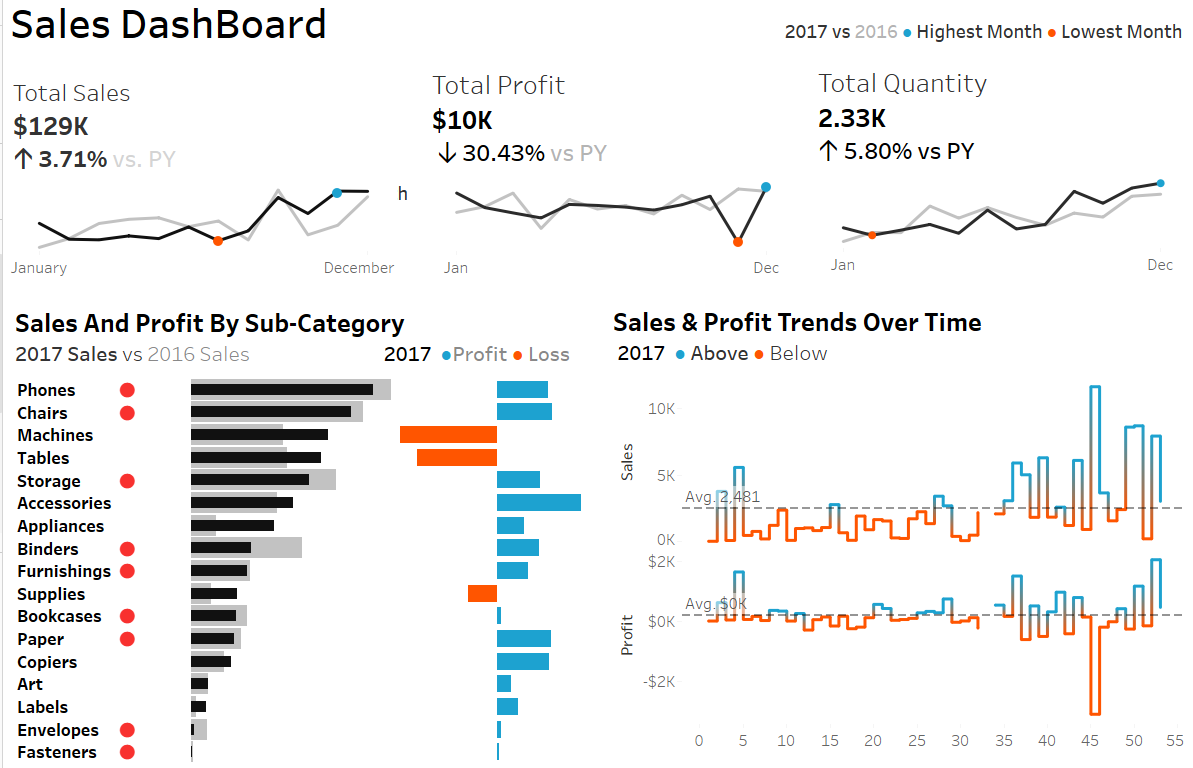

Layout of this report page (visuals, bound fields, positions):
{"tool":"tableau","page":{"name":"Dashboard 2","canvas":[1200,800],"ordinal":0},"visuals":[{"type":"text","box":[0,0,1200,400]},{"type":"text","box":[4,3,1189,52]},{"type":"worksheet","title":"Quantity KPI","mark":"Automatic","rows":["Min/Max Sales (copy)_424182855802077206"],"cols":["Order Date"],"box":[811,68,375,216]},{"type":"worksheet","title":"Profit KPI","mark":"Automatic","rows":["Min/Max Sales (copy)_424182855794262029"],"cols":["Order Date"],"box":[425,70,366,217]},{"type":"worksheet","title":"KPI Sales","mark":"Automatic","rows":["Calculation_424182855782264836"],"cols":["Order Date"],"box":[6,79,388,208]},{"type":"worksheet","title":"Sheet 14","mark":"Automatic","rows":["Calculation_424182855769059328","Calculation_424182855793283082"],"cols":["Order Date"],"box":[606,307,577,453]},{"type":"worksheet","title":"Sheet 11","mark":"Bar","rows":["Sub-Category","Calculation_424182855822110746"],"cols":["CY Sales (copy)_424182855771340801","Calculation_424182855769059328","Calculation_424182855793283082"],"box":[8,308,579,462]},{"type":"text","box":[0,400,1200,400]}]}

Visuals, with their boxes on the page's 1200x800 design canvas (x1, y1, x2, y2). These are canvas units, not pixel positions in the 1193x768 screenshot, which may show the page scaled, cropped or inside an application window:
text: {"left": 0, "top": 0, "right": 1200, "bottom": 400}
text: {"left": 4, "top": 3, "right": 1193, "bottom": 55}
"Quantity KPI" worksheet: {"left": 811, "top": 68, "right": 1186, "bottom": 284}
"Profit KPI" worksheet: {"left": 425, "top": 70, "right": 791, "bottom": 287}
"KPI Sales" worksheet: {"left": 6, "top": 79, "right": 394, "bottom": 287}
"Sheet 14" worksheet: {"left": 606, "top": 307, "right": 1183, "bottom": 760}
"Sheet 11" worksheet (Bar marks): {"left": 8, "top": 308, "right": 587, "bottom": 770}
text: {"left": 0, "top": 400, "right": 1200, "bottom": 800}
